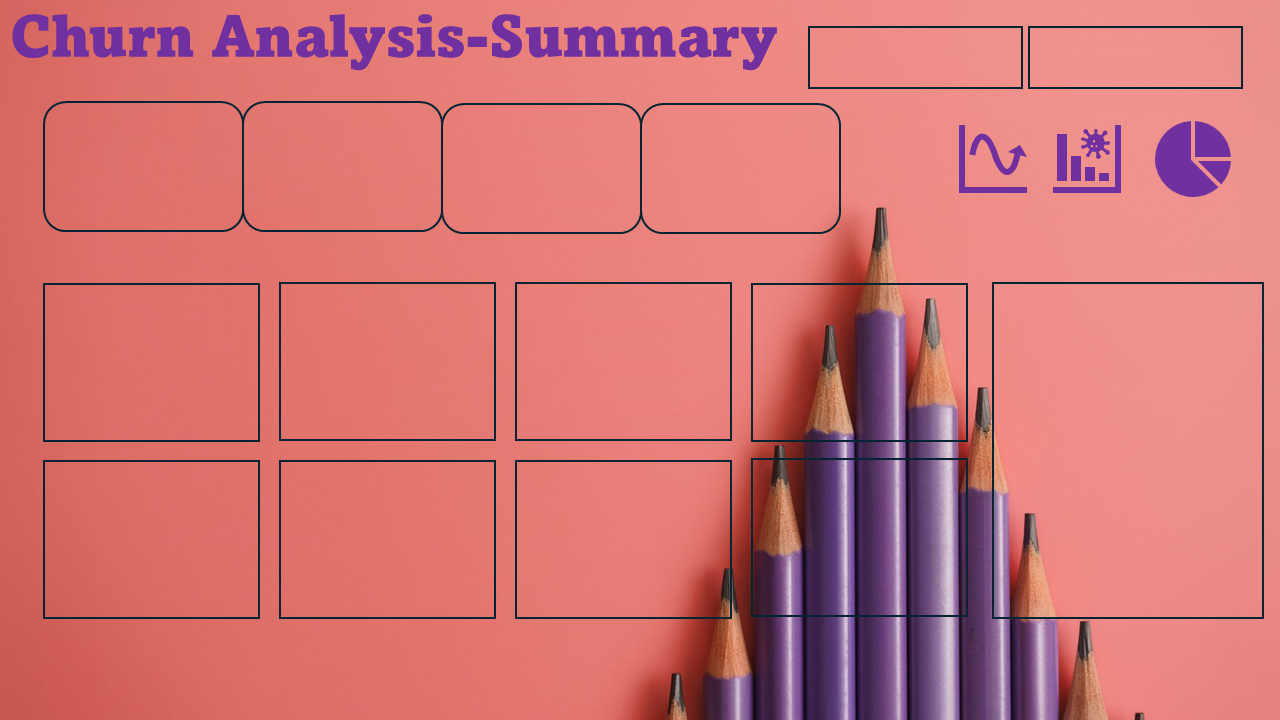

This screenshot's page, from the dashboard's own definition file:
{"tool":"powerbi","page":{"name":"Summary","canvas":[1280,720],"ordinal":0},"visuals":[{"type":"card","fields":{"Values":["tbl_Measures.Total Customers"]},"box":[31.6,81,207.2,163.3],"z":0},{"type":"card","fields":{"Values":["tbl_Measures.New Joiners"]},"box":[238.8,81,207.2,163.3],"z":1000},{"type":"card","fields":{"Values":["tbl_Measures.Total Churn"]},"box":[432.2,82.3,207.2,163.3],"z":2000},{"type":"card","fields":{"Values":["tbl_Measures.Churn Rate"]},"box":[639.5,81,207.2,163.3],"z":3000},{"type":"donutChart","fields":{"Category":["prod_Churn.Gender"],"Y":["tbl_Measures.Total Churn"]},"box":[48,284,207.2,149.6],"z":4000},{"type":"lineStackedColumnComboChart","fields":{"Category":["mapping_AgeGrp.Age Group"],"Y":["tbl_Measures.Total Customers"],"Y2":["tbl_Measures.Churn Rate"]},"box":[281.3,284,207.2,149.6],"z":5000},{"type":"clusteredBarChart","fields":{"Category":["prod_Churn.Payment_Method"],"Y":["tbl_Measures.Churn Rate"]},"box":[48,463.8,207.2,145.5],"z":6000},{"type":"clusteredBarChart","fields":{"Category":["prod_Churn.Contract"],"Y":["tbl_Measures.Churn Rate"]},"box":[281.3,463.8,207.2,145.5],"z":7000},{"type":"lineStackedColumnComboChart","fields":{"Category":["mapping_TenureGrp.Tenure Group"],"Y":["tbl_Measures.Total Customers"],"Y2":["tbl_Measures.Churn Rate"]},"box":[518.7,284,207.2,150.9],"z":8000},{"type":"clusteredBarChart","title":"Churn Rate by State(Top 5)","fields":{"Category":["prod_Churn.State"],"Y":["tbl_Measures.Churn Rate"]},"box":[518.7,463.8,207.2,145.5],"z":9000},{"type":"clusteredBarChart","fields":{"Category":["prod_Churn.Churn_Category"],"Y":["tbl_Measures.Total Churn"]},"box":[754.7,284,203.1,149.6],"z":10000},{"type":"clusteredBarChart","fields":{"Category":["prod_Churn.Internet_Type"],"Y":["tbl_Measures.Churn Rate"]},"box":[754.7,463.8,203.1,145.5],"z":11000},{"type":"pivotTable","title":"Churn By Services","fields":{"Rows":["prod_Services.Services"],"Columns":["prod_Services.Status"],"Values":["Sum(prod_Services.Churn_Status)"]},"box":[999,284,259.3,325.2],"z":12000},{"type":"slicer","fields":{"Values":["prod_Churn.MonthlyChargeStatus"]},"box":[808.2,17.8,216.8,75.5],"z":13000},{"type":"slicer","fields":{"Values":["prod_Churn.Married"]},"box":[1025,17.8,216.8,75.5],"z":14000},{"type":"shape","box":[19.2,638.1,236,61.7],"z":14001}]}

Visuals, with their boxes in screenshot pixels (x1, y1, x2, y2), scaled from the page's 1280x720 canvas onto the 1280x720 screenshot:
card - tbl_Measures.Total Customers: [left=32, top=81, right=239, bottom=244]
card - tbl_Measures.New Joiners: [left=239, top=81, right=446, bottom=244]
card - tbl_Measures.Total Churn: [left=432, top=82, right=639, bottom=246]
card - tbl_Measures.Churn Rate: [left=640, top=81, right=847, bottom=244]
donutChart - prod_Churn.Gender x tbl_Measures.Total Churn: [left=48, top=284, right=255, bottom=434]
lineStackedColumnComboChart - mapping_AgeGrp.Age Group x tbl_Measures.Total Customers: [left=281, top=284, right=488, bottom=434]
clusteredBarChart - prod_Churn.Payment_Method x tbl_Measures.Churn Rate: [left=48, top=464, right=255, bottom=609]
clusteredBarChart - prod_Churn.Contract x tbl_Measures.Churn Rate: [left=281, top=464, right=488, bottom=609]
lineStackedColumnComboChart - mapping_TenureGrp.Tenure Group x tbl_Measures.Total Customers: [left=519, top=284, right=726, bottom=435]
"Churn Rate by State(Top 5)" clusteredBarChart: [left=519, top=464, right=726, bottom=609]
clusteredBarChart - prod_Churn.Churn_Category x tbl_Measures.Total Churn: [left=755, top=284, right=958, bottom=434]
clusteredBarChart - prod_Churn.Internet_Type x tbl_Measures.Churn Rate: [left=755, top=464, right=958, bottom=609]
"Churn By Services" pivotTable: [left=999, top=284, right=1258, bottom=609]
slicer - prod_Churn.MonthlyChargeStatus: [left=808, top=18, right=1025, bottom=93]
slicer - prod_Churn.Married: [left=1025, top=18, right=1242, bottom=93]
shape: [left=19, top=638, right=255, bottom=700]
